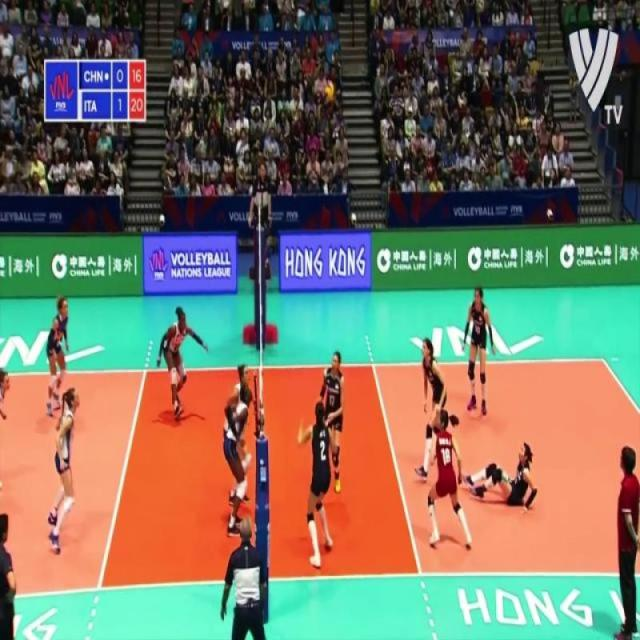volleyball: (322, 80, 334, 104)
